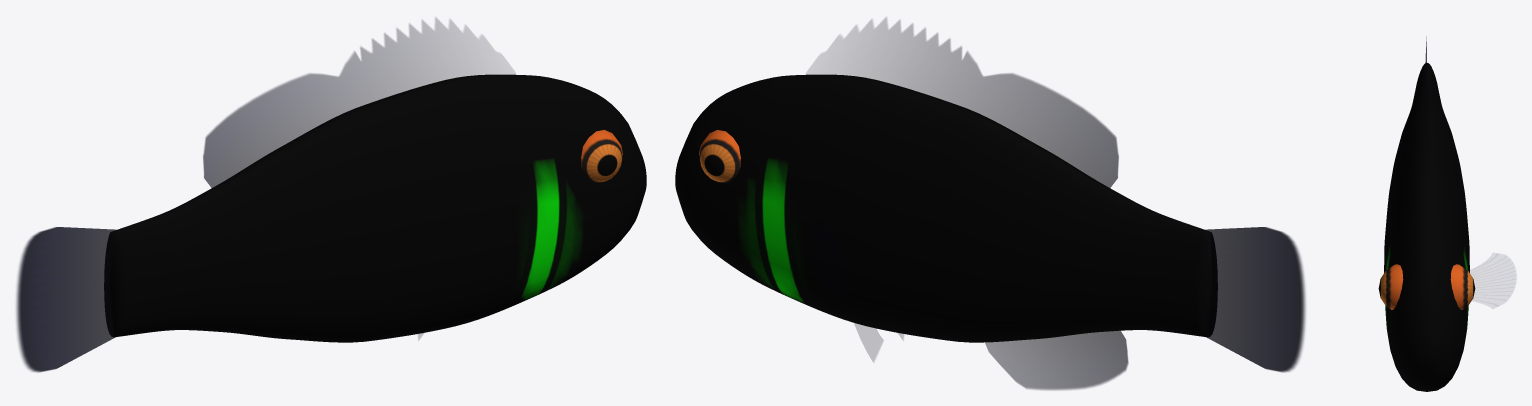
File: clown_darwin.glb
3 views of the same model, side by side, from view 1: azimuth 30°, elevation 25°; view 2: azimuth 150°, elevation 25°; view 3: azimuth 270°, elevation 25° (orthographic). The views are drawn at different scales.
Visible parts, largest first — view 1: Body, FinDorsal, FinCaudal, EyeR; view 2: Body, FinDorsal, FinCaudal, FinAnal, EyeL, FinPelvicL; view 3: Body, EyeL, EyeR, FinPectoralL, FinDorsal.
Part boxes in pixels (x1=…): Body: x1=104, y1=74, x2=646, y2=342; FinDorsal: x1=203, y1=18, x2=515, y2=188; FinCaudal: x1=16, y1=227, x2=117, y2=372; EyeR: x1=581, y1=130, x2=622, y2=182; Body: x1=675, y1=74, x2=1217, y2=342; FinDorsal: x1=806, y1=18, x2=1118, y2=188; FinCaudal: x1=1204, y1=227, x2=1305, y2=372; FinAnal: x1=985, y1=330, x2=1128, y2=390; EyeL: x1=699, y1=130, x2=740, y2=182; FinPelvicL: x1=854, y1=322, x2=883, y2=362; Body: x1=1384, y1=63, x2=1469, y2=391; EyeL: x1=1450, y1=264, x2=1475, y2=309; EyeR: x1=1378, y1=264, x2=1403, y2=309; FinPectoralL: x1=1470, y1=254, x2=1515, y2=306; FinDorsal: x1=1424, y1=36, x2=1426, y2=152.
Bounding box in the file's own units: 1 × 0.5197 × 0.2847.
4 materials, 3 textured.
